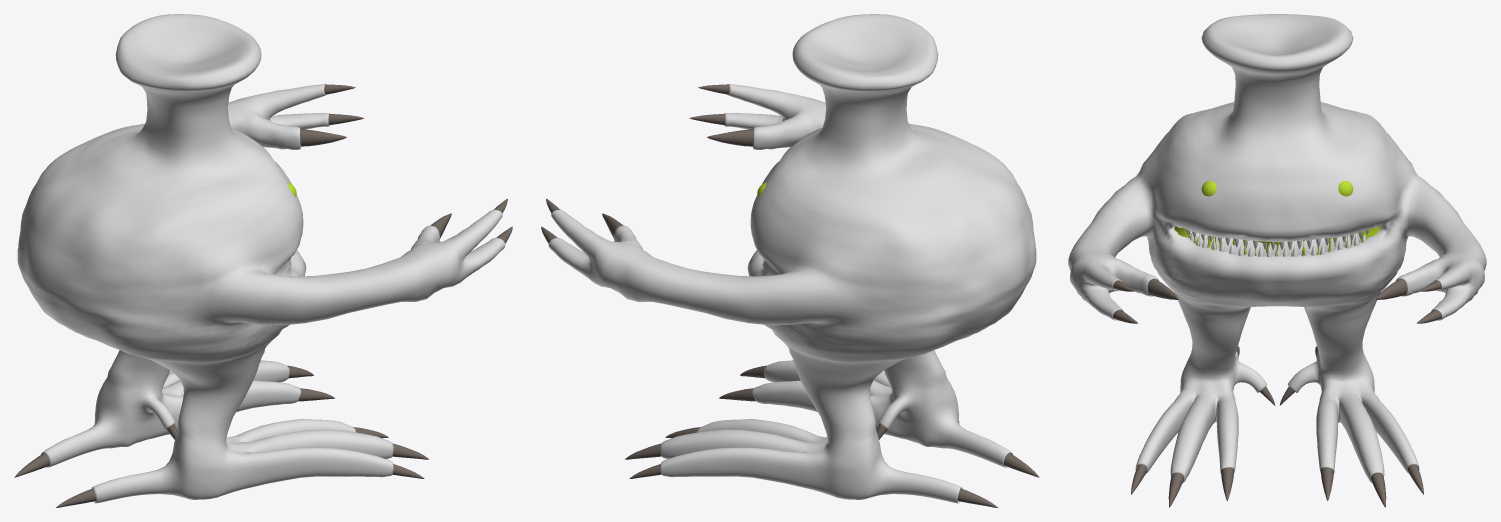
Rendered from monster .fbx.
3 renders of one model, left to right at view 1: azimuth 30°, elevation 25°; view 2: azimuth 150°, elevation 25°; view 3: azimuth 270°, elevation 25°, orthographic. The views are drawn at different scales.
Visible parts, largest first — view 1: Cube.008; view 2: Cube.008; view 3: Cube.008.
Boxes of the visible parts, x1,y1,x2,y2 form: Cube.008: (14,14,512,507); Cube.008: (541,14,1039,507); Cube.008: (1068,14,1486,507).
Size of what is drawn, in the model's own units: 1396 by 1385 by 1333.
